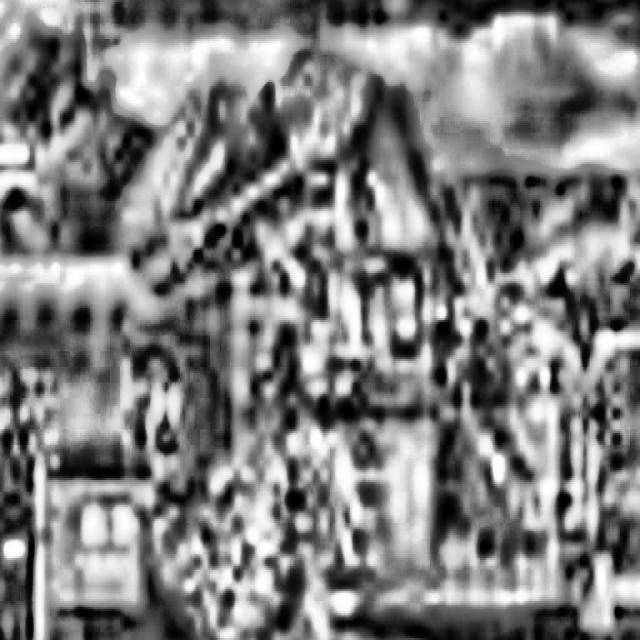dump_truck: (0, 214, 179, 640)
